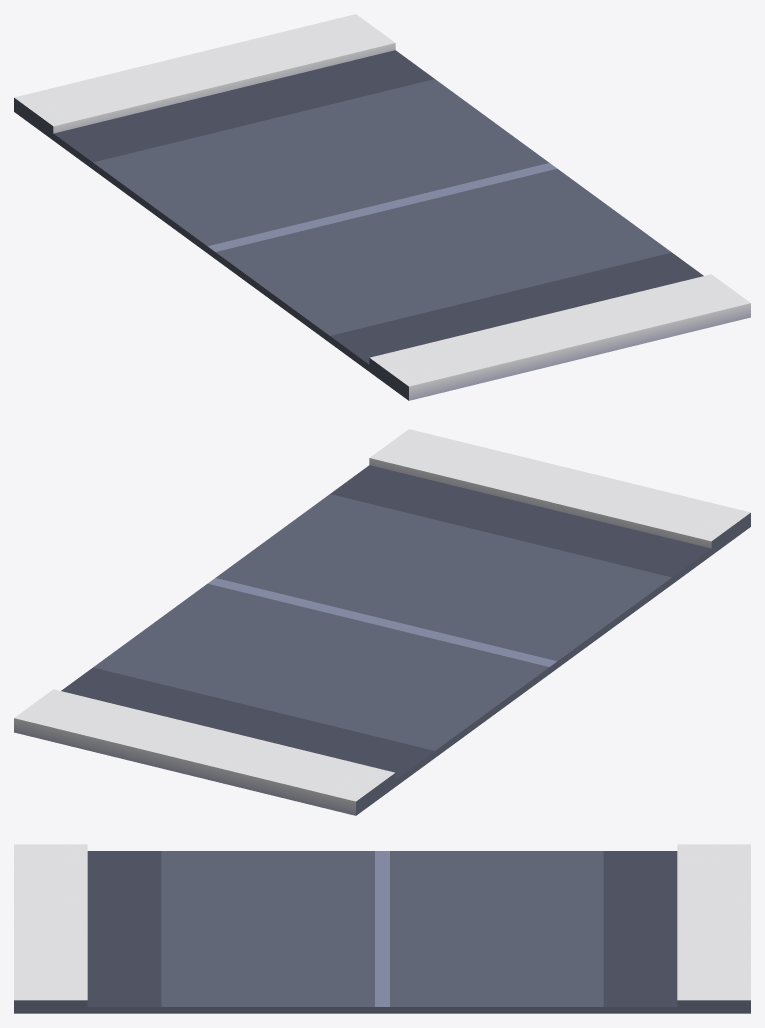
The model's file is road-straight-half.glb.
The picture shows the model from 3 angles, top to bottom: view 1: azimuth 30°, elevation 25°; view 2: azimuth 150°, elevation 25°; view 3: azimuth 270°, elevation 25°; orthographic projection. The views are drawn at different scales.
Visible parts, largest first — view 1: road-straight-half; view 2: road-straight-half; view 3: road-straight-half.
Boxes of the visible parts, <box> form: road-straight-half: <box>14,14,750,400</box>; road-straight-half: <box>14,429,750,815</box>; road-straight-half: <box>14,844,750,1013</box>.
Bounding box in the file's own units: 0.5 × 0.02 × 1.
1 material, 1 textured.
